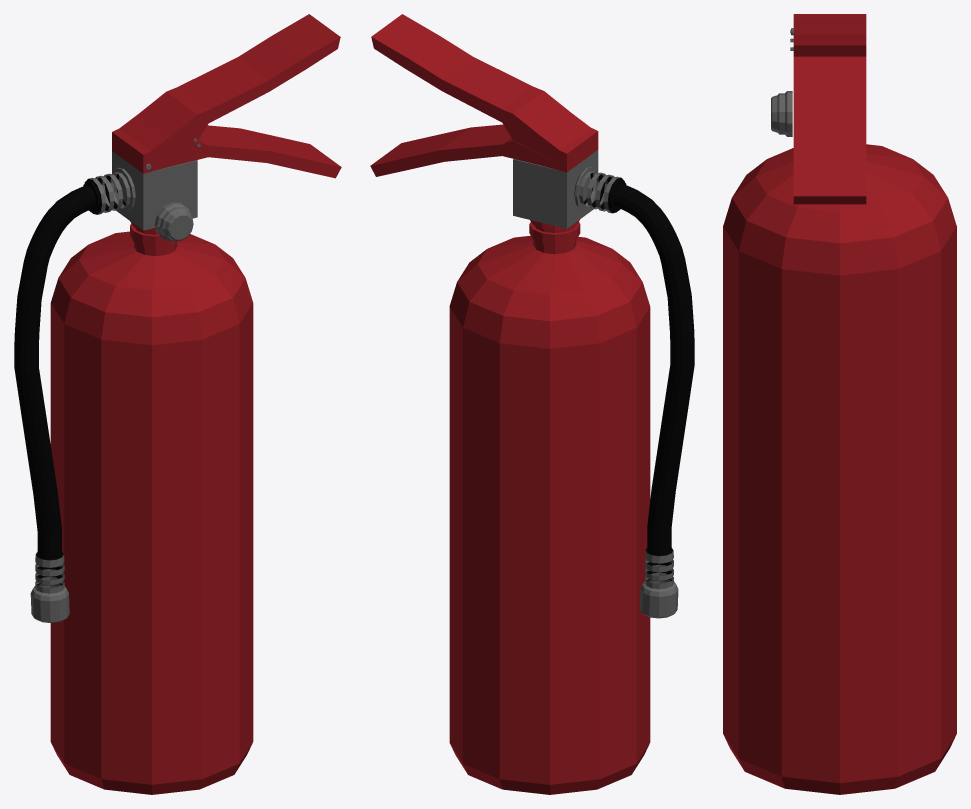
Rendered from extintorH2O.fbx.
3 views of the same model, side by side, from view 1: azimuth 30°, elevation 25°; view 2: azimuth 150°, elevation 25°; view 3: azimuth 270°, elevation 25° (orthographic). The views are drawn at different scales.
Visible parts, largest first — view 1: Circle.004; view 2: Circle.004; view 3: Circle.004.
Part boxes in pixels (box(x1,y1,x2,y2)): Circle.004: box(14, 14, 341, 794); Circle.004: box(370, 14, 694, 794); Circle.004: box(723, 14, 956, 794).
Bounding box in the file's own units: 164 × 353 × 92.84.
